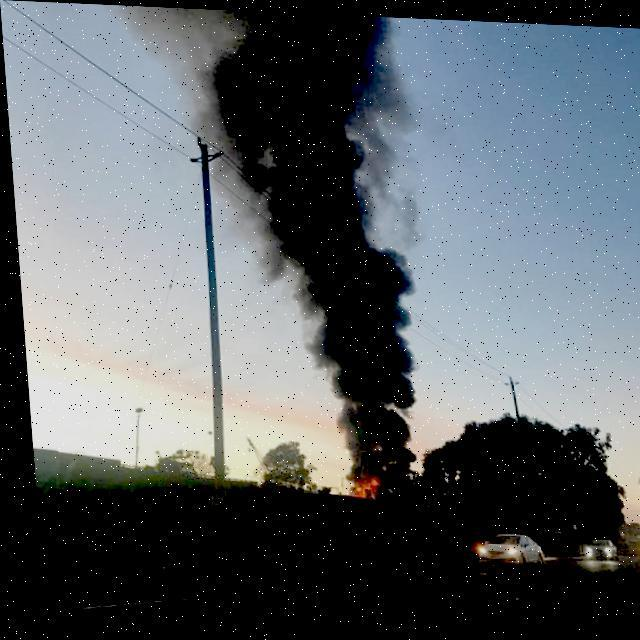Fire: (335, 466, 382, 497)
